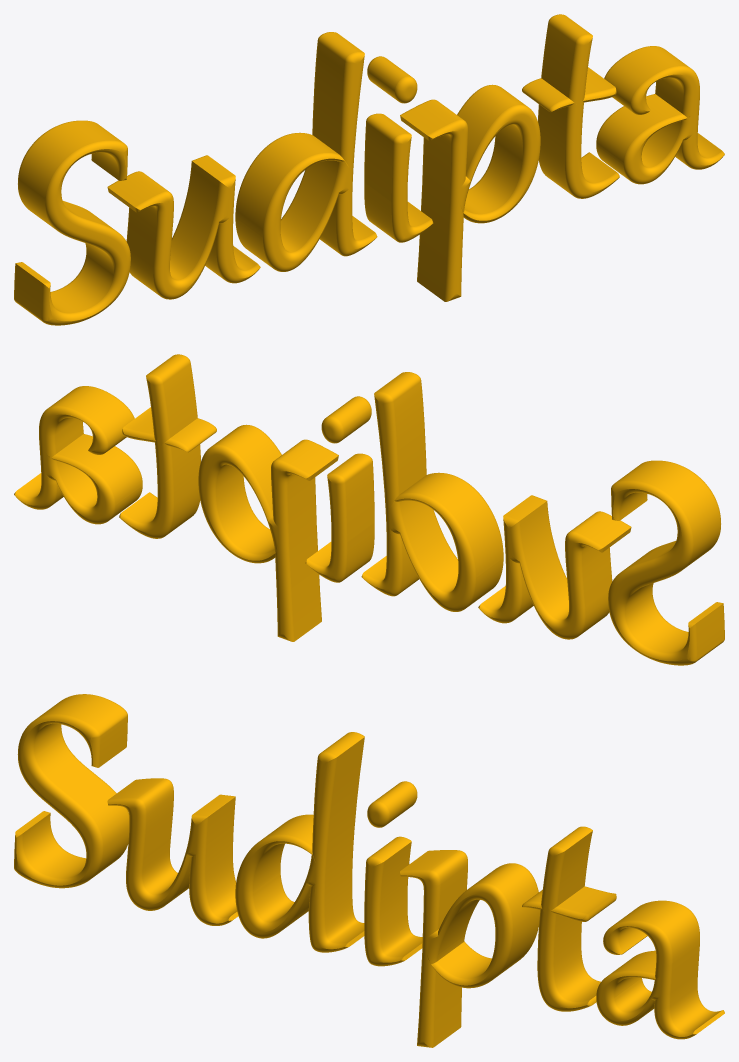
The picture shows the model from 3 angles, top to bottom: view 1: azimuth 30°, elevation 25°; view 2: azimuth 150°, elevation 25°; view 3: azimuth 330°, elevation 25°; orthographic projection.
Parts seen in each view (by area): view 1: Text; view 2: Text; view 3: Text.
Boxes of the visible parts, x1,y1,x2,y2 form: Text: (14, 14, 724, 325); Text: (14, 354, 724, 665); Text: (14, 694, 724, 1047).
Size of the model in its own units: 3.23 by 1.23 by 0.2801.
